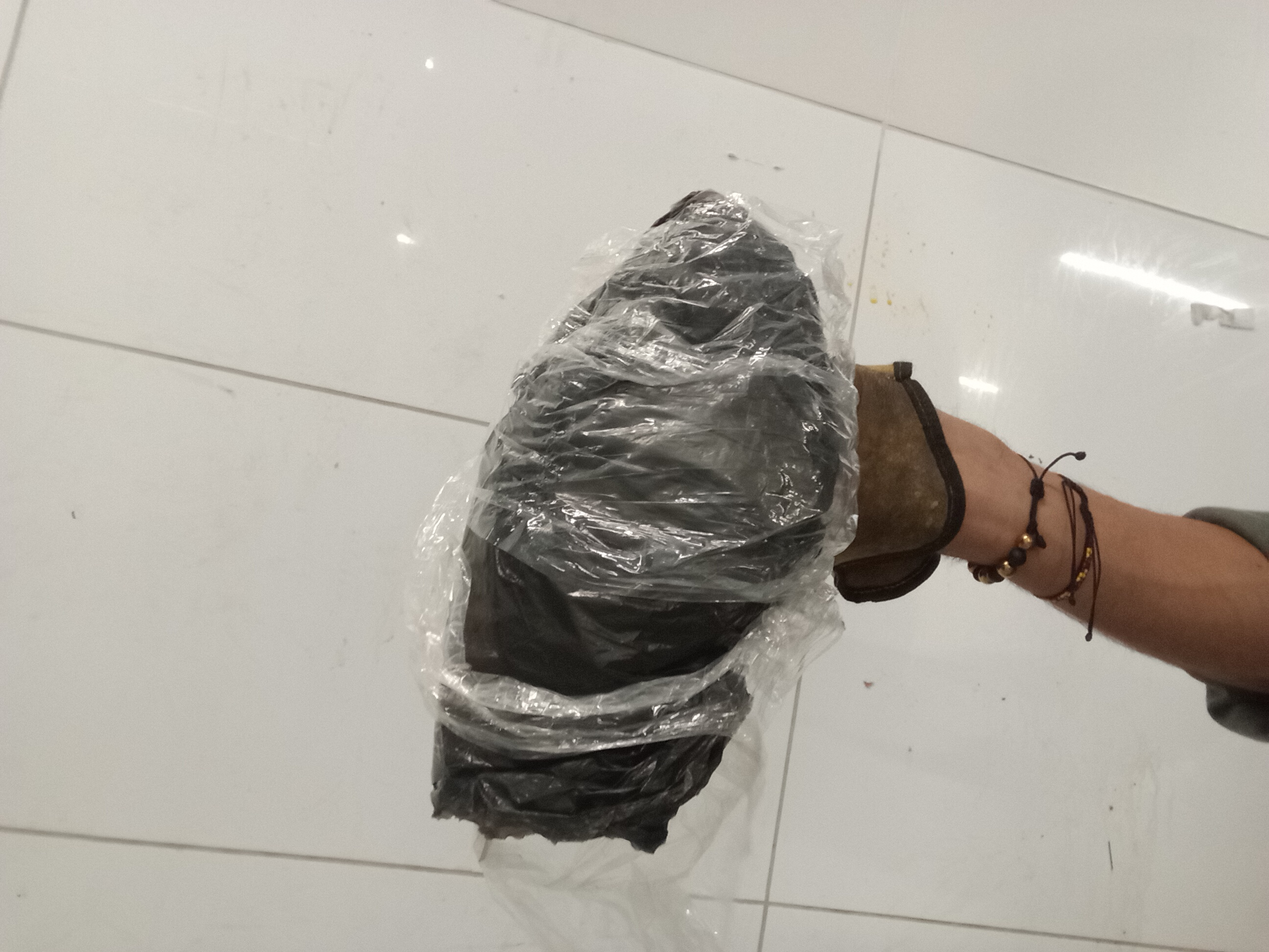Plastico: (401, 186, 861, 952)
